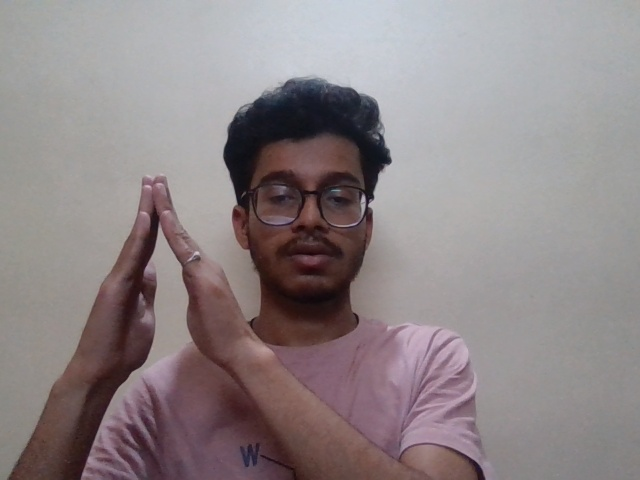home: (71, 167, 268, 384)
